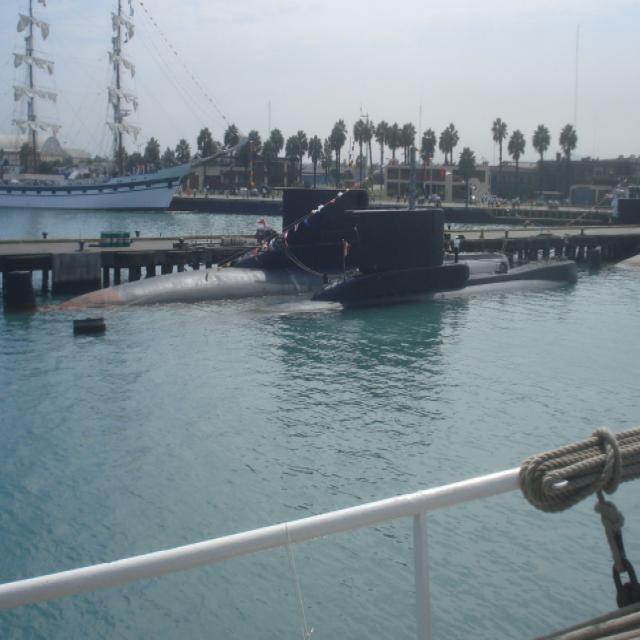submarine: (38, 178, 577, 324)
